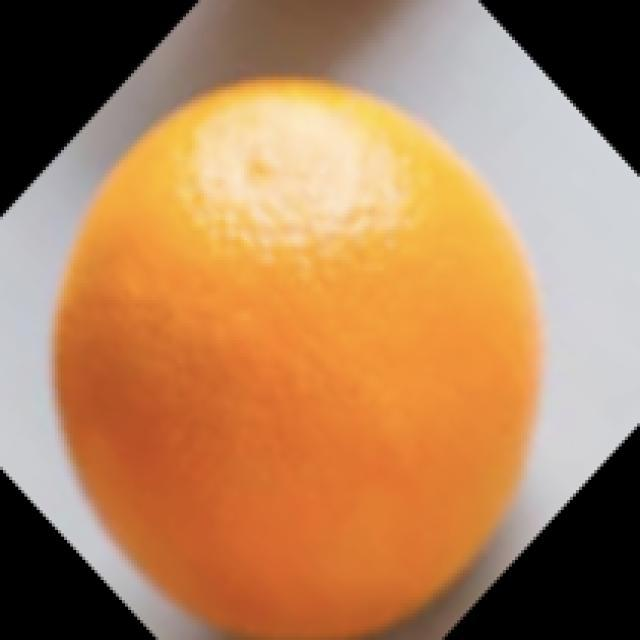Orange: (50, 72, 542, 638)
